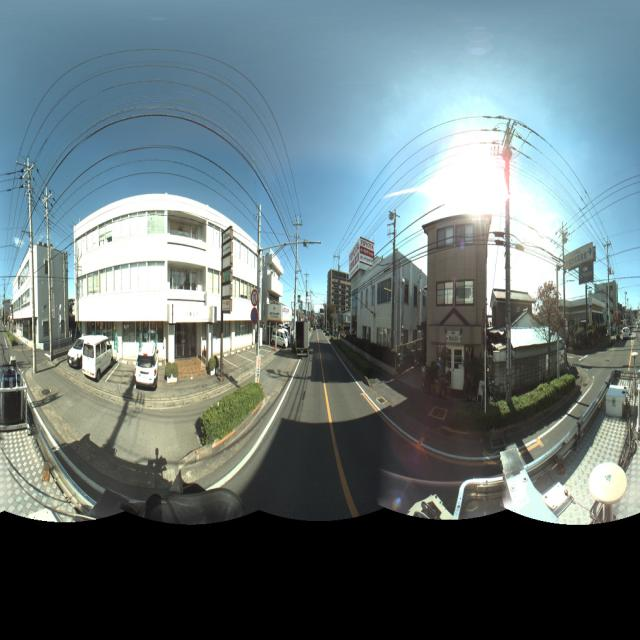b_1: (60, 198, 261, 372), (423, 200, 490, 410), (350, 233, 433, 359), (6, 236, 71, 359), (258, 237, 289, 345), (318, 254, 358, 332)
b_2: (479, 276, 565, 406)
